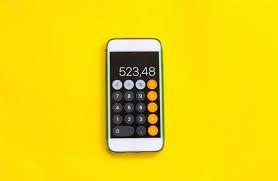Calculator: (109, 62, 163, 140)
